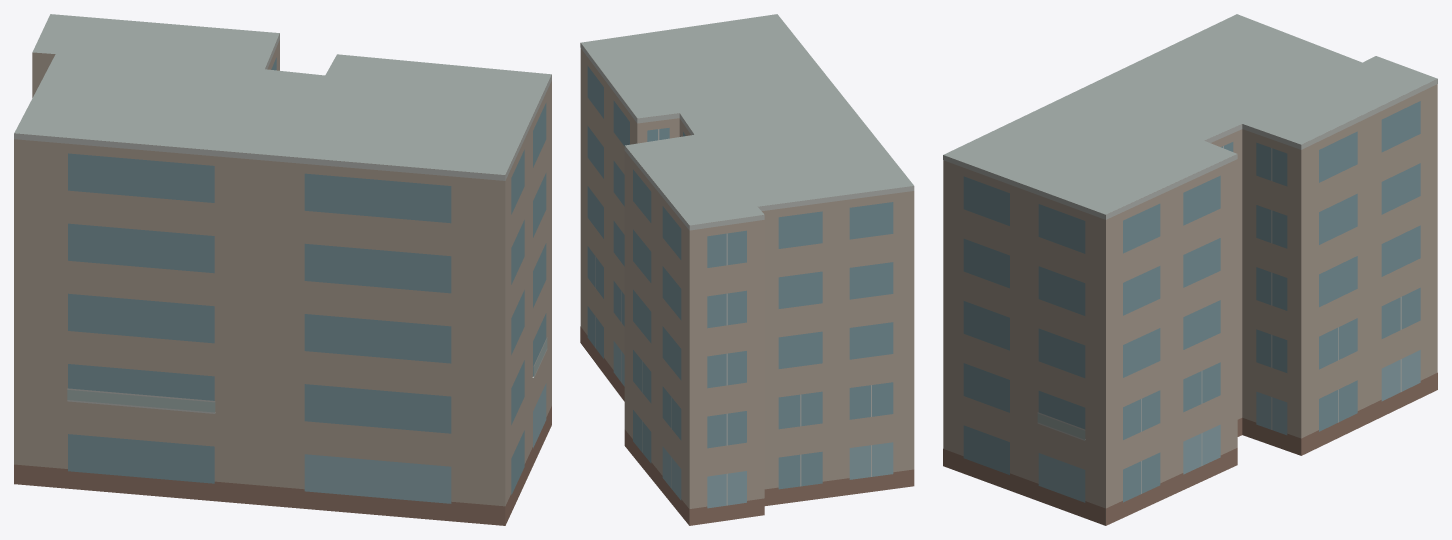
File: survey-upis-33009775.glb
The picture shows the model from 3 angles, left to right: view 1: azimuth 30°, elevation 25°; view 2: azimuth 150°, elevation 25°; view 3: azimuth 270°, elevation 25°; orthographic projection. The views are drawn at different scales.
Parts seen in each view (by area): view 1: survey-upis-33009775.tmp; view 2: survey-upis-33009775.tmp; view 3: survey-upis-33009775.tmp.
Part boxes in pixels (x1,y1,x2,y2): survey-upis-33009775.tmp: (14,14,551,525); survey-upis-33009775.tmp: (580,14,914,525); survey-upis-33009775.tmp: (943,14,1437,525).
Size of the model in its own units: 20.21 by 14.6 by 21.04.
